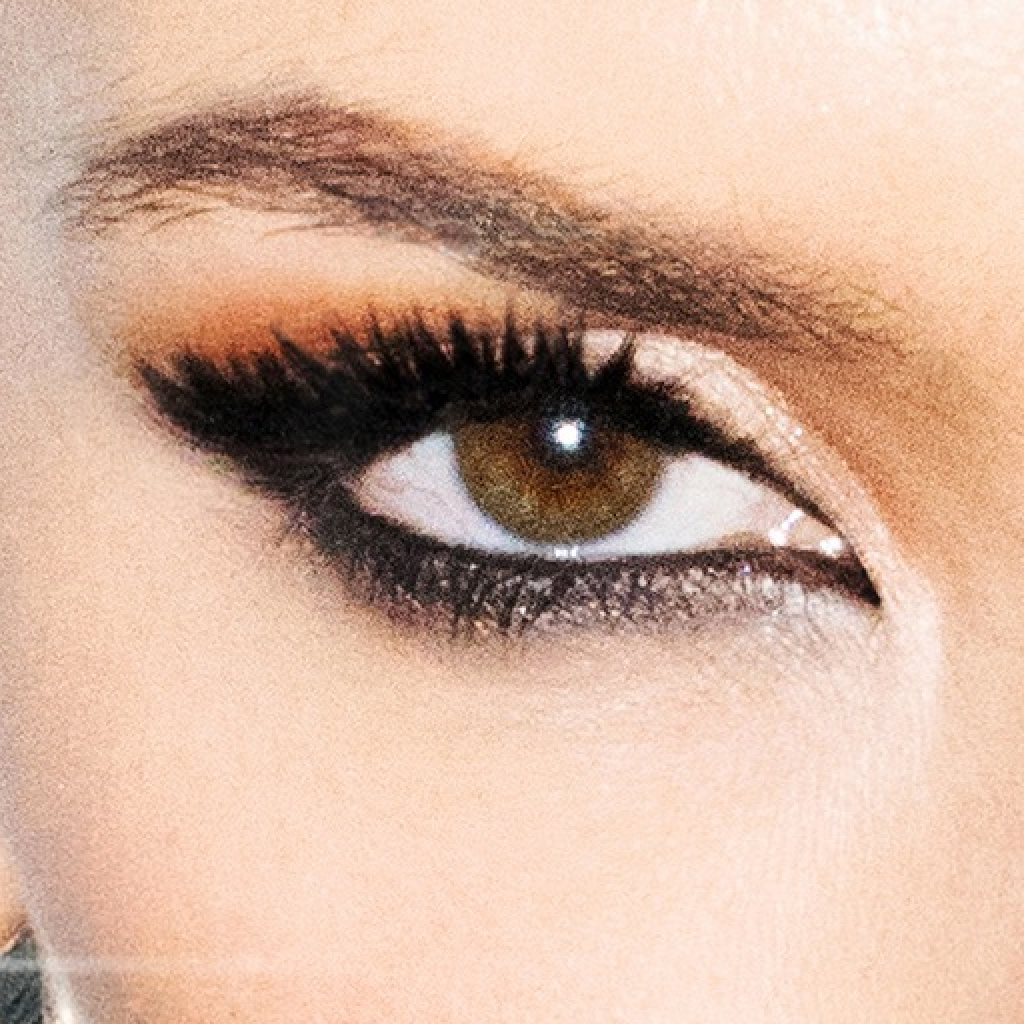iris: (457, 409, 663, 544)
pupil: (532, 404, 602, 468)
sclera: (360, 431, 771, 559)
